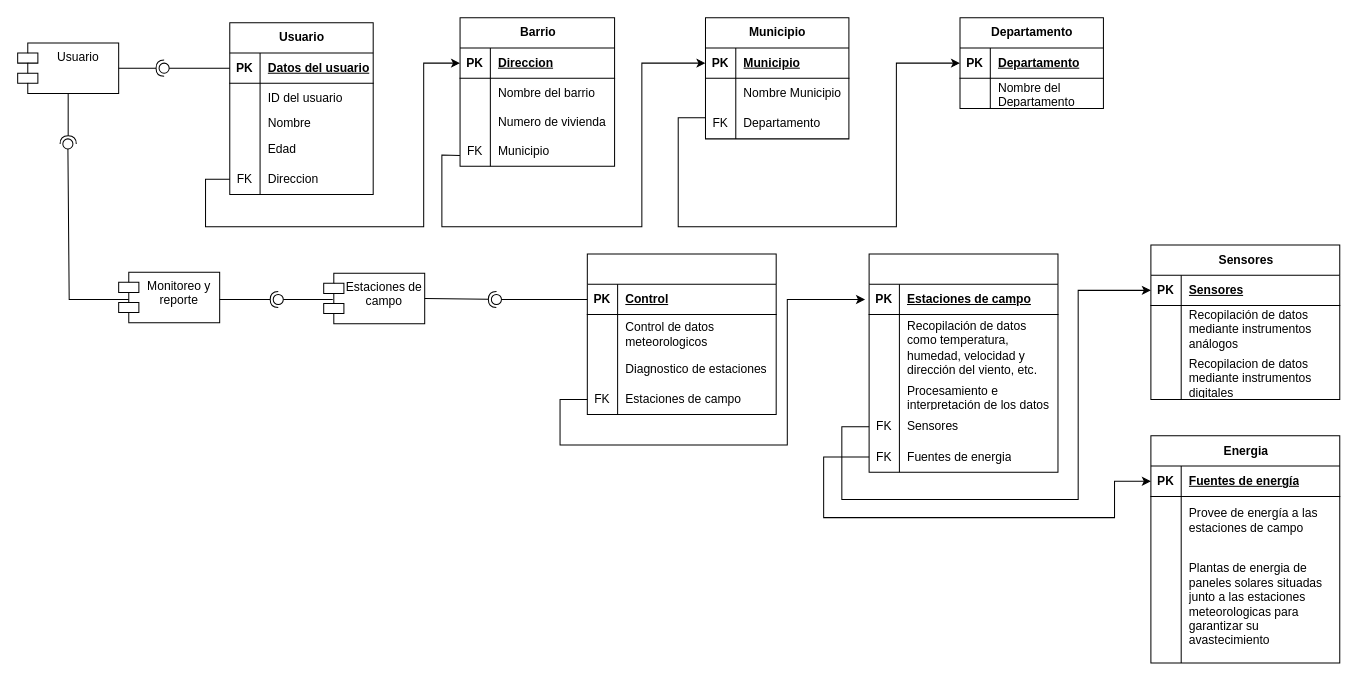
Some shapes in this 1357 by 681 pixel diagram are drawn without their labels. The box of each missing label's shape, as (x1, y1, x2, y2) in pixels:
Centro de control y transmision: (586, 253, 776, 415)
Estaciones Meteorologicas: (868, 253, 1058, 472)
